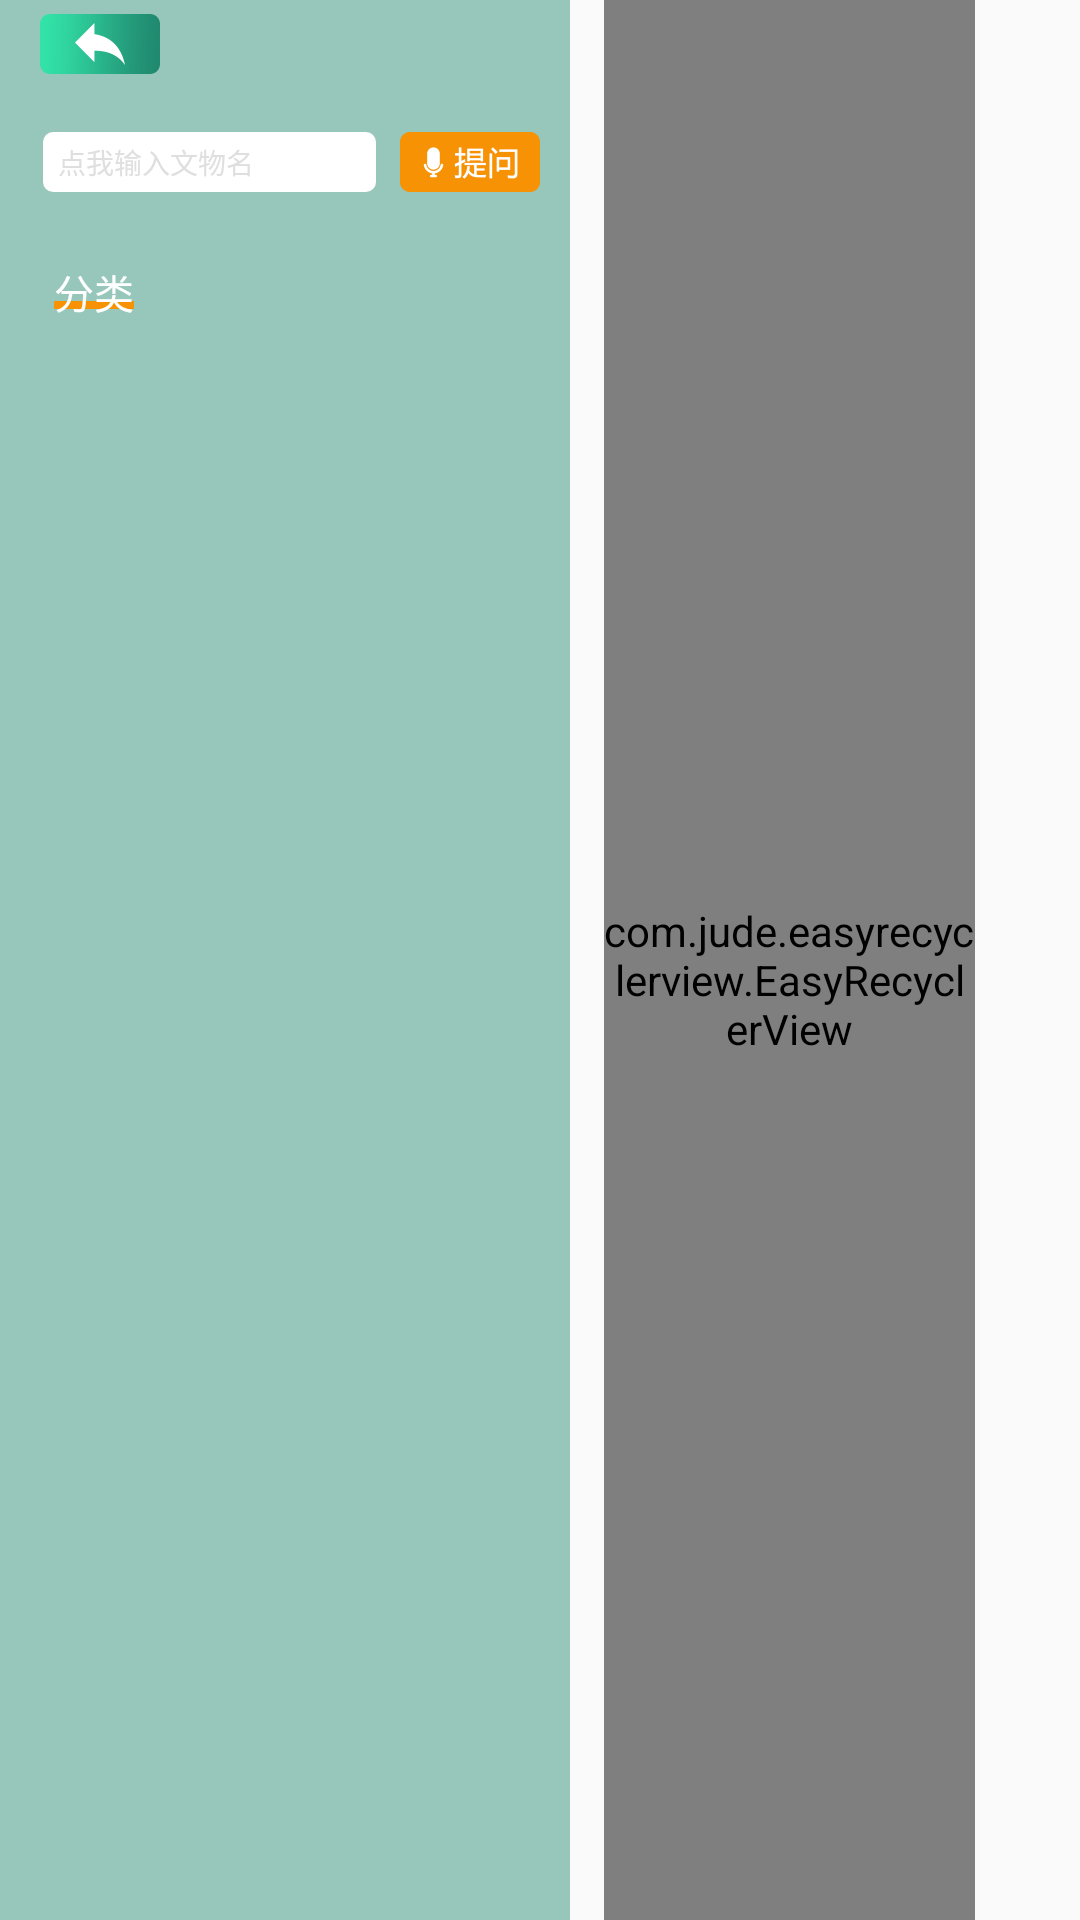

Screen size 1080*1920. Icon name, then its center in pixels as (x=x, y=y):
back: (x=100, y=44)
